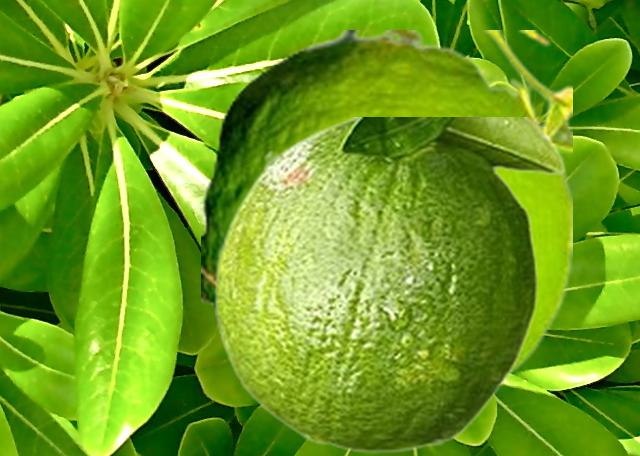dalandan: (201, 30, 571, 389), (213, 117, 565, 452)
